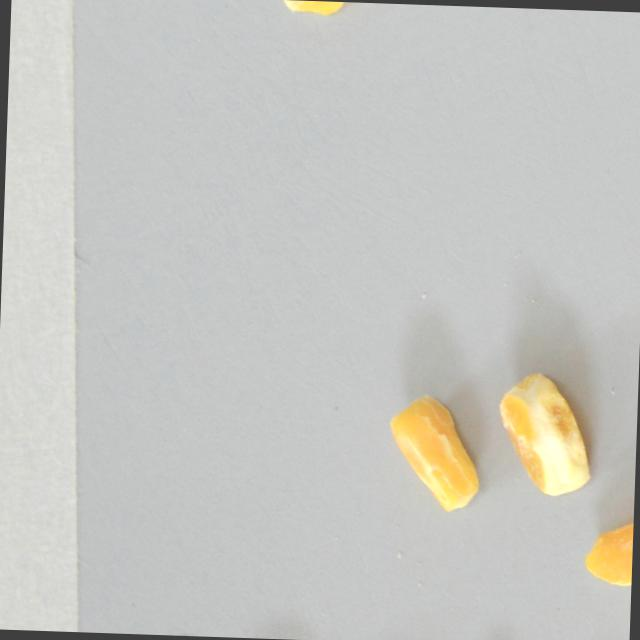pelicula: (492, 369, 595, 498), (381, 389, 484, 511), (581, 499, 634, 587), (282, 0, 379, 24)
